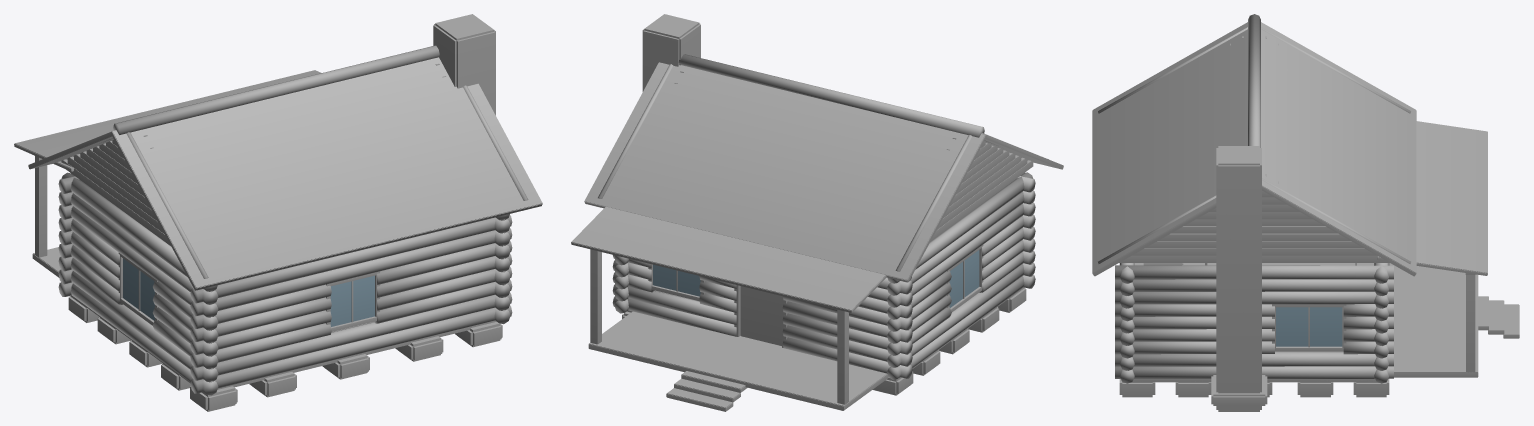
The model's file is cabin.glb.
3 views of the same model, side by side, from view 1: azimuth 30°, elevation 25°; view 2: azimuth 150°, elevation 25°; view 3: azimuth 270°, elevation 25° (orthographic). The views are drawn at different scales.
Parts seen in each view (by area): view 1: roof, walls, stone, trim, beams, glass, floor; view 2: roof, walls, floor, trim, beams, stone, DOOR_main, glass; view 3: roof, walls, stone, floor, trim, beams, glass.
Boxes of the visible parts, x1,y1,x2,y2 form: roof: (14, 57, 542, 290); walls: (58, 172, 512, 395); stone: (68, 14, 502, 411); trim: (35, 63, 445, 331); beams: (99, 45, 528, 278); glass: (123, 258, 374, 326); floor: (32, 247, 496, 393); roof: (571, 62, 1063, 312); walls: (612, 172, 1035, 379); floor: (588, 289, 1021, 411); trim: (590, 71, 1033, 404); beams: (598, 54, 1048, 271); stone: (622, 14, 1026, 395); DOOR_main: (740, 286, 781, 345); glass: (653, 250, 979, 307); roof: (1092, 22, 1487, 276); walls: (1115, 263, 1393, 383); stone: (1119, 146, 1389, 411); floor: (1132, 263, 1519, 382); trim: (1119, 36, 1475, 372); beams: (1098, 14, 1410, 263); glass: (1276, 307, 1342, 346).
Size of the model in its own units: 8.1 by 5.52 by 8.4.
